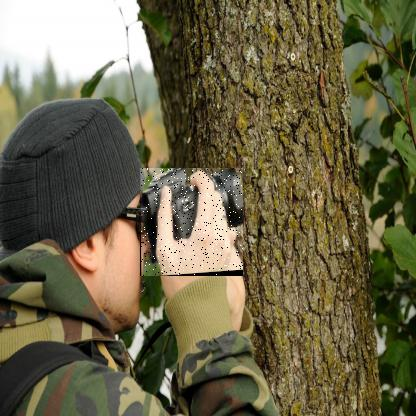Camera: (141, 169, 245, 278)
